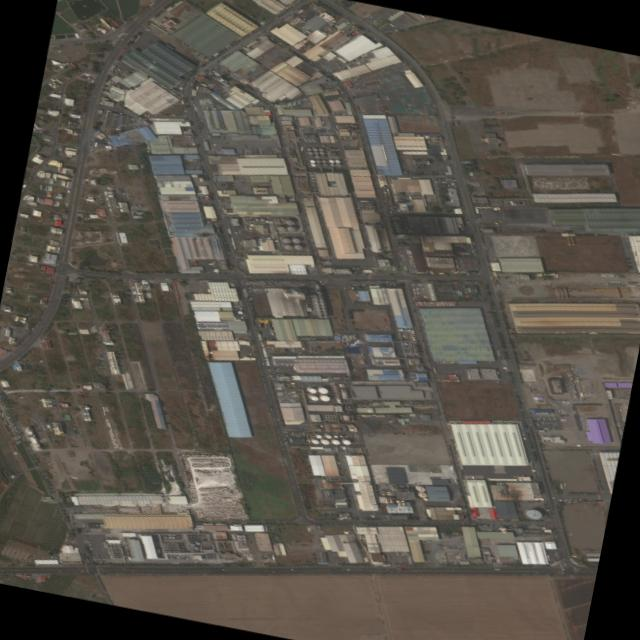large-vehicle: (334, 63, 340, 69), (369, 14, 375, 18), (208, 263, 214, 265), (261, 281, 265, 284), (267, 281, 271, 284), (243, 276, 252, 277), (297, 427, 305, 428), (276, 370, 284, 371), (246, 283, 250, 285), (395, 569, 402, 570), (247, 282, 253, 283), (493, 569, 499, 570), (343, 287, 345, 289)
storage-tank: (525, 508, 542, 521), (414, 485, 425, 493), (317, 387, 327, 395), (319, 395, 329, 402), (417, 491, 427, 498), (293, 244, 302, 251), (286, 226, 295, 233), (283, 244, 292, 250), (291, 238, 300, 244), (276, 226, 285, 232), (284, 220, 293, 226), (282, 238, 290, 244), (320, 439, 328, 445), (331, 440, 339, 446), (342, 440, 350, 446), (308, 388, 316, 394), (310, 396, 318, 401), (334, 163, 341, 168), (311, 440, 318, 445), (385, 491, 392, 496), (319, 301, 325, 306), (313, 301, 319, 305), (322, 315, 328, 319), (320, 308, 326, 312), (316, 291, 322, 295), (315, 163, 321, 167), (314, 160, 320, 164), (321, 163, 327, 167), (320, 160, 326, 164), (328, 163, 334, 167), (314, 305, 320, 309), (315, 308, 321, 312), (316, 311, 322, 315), (194, 541, 200, 545), (315, 435, 321, 439), (325, 435, 331, 439), (383, 497, 389, 501), (383, 500, 389, 504), (380, 490, 386, 494), (422, 497, 428, 501), (259, 218, 264, 222), (313, 298, 318, 302), (312, 295, 317, 299), (320, 305, 325, 309), (318, 298, 323, 302), (317, 295, 322, 299), (402, 342, 407, 346), (312, 148, 317, 152), (318, 148, 323, 152), (306, 148, 311, 152), (320, 155, 325, 159), (310, 163, 315, 167), (309, 160, 314, 164), (314, 155, 319, 159), (328, 160, 333, 164), (334, 160, 339, 164), (189, 543, 194, 547), (193, 546, 198, 550), (389, 500, 394, 504), (396, 503, 401, 507), (395, 500, 400, 504), (318, 152, 324, 155), (322, 312, 327, 315), (313, 152, 318, 155), (307, 152, 312, 155), (308, 155, 313, 158), (115, 546, 120, 549), (111, 543, 116, 546), (254, 218, 258, 221), (163, 536, 167, 539), (333, 435, 337, 438), (168, 557, 172, 560), (304, 306, 308, 309), (113, 548, 117, 551), (112, 546, 116, 549), (116, 548, 120, 551), (104, 543, 108, 546), (108, 543, 112, 546), (115, 543, 119, 546), (272, 218, 275, 221), (383, 191, 386, 194), (110, 548, 113, 551), (334, 390, 337, 393), (337, 401, 340, 404), (333, 385, 336, 388), (304, 304, 307, 307), (329, 414, 332, 417), (323, 414, 326, 417), (327, 418, 330, 421), (326, 414, 329, 417), (114, 555, 118, 557), (360, 208, 364, 210), (359, 206, 363, 208), (371, 206, 375, 208), (367, 208, 371, 210), (276, 221, 280, 223), (401, 335, 405, 337), (275, 219, 279, 221), (339, 436, 343, 438), (108, 546, 112, 548), (113, 551, 117, 553), (334, 393, 338, 395), (333, 388, 337, 390), (303, 303, 307, 305), (370, 204, 373, 206), (365, 206, 368, 208), (368, 206, 371, 208), (364, 208, 367, 210), (362, 204, 365, 206), (372, 208, 375, 210), (364, 204, 367, 206), (359, 204, 362, 206), (280, 218, 283, 220), (411, 337, 414, 339), (114, 553, 117, 555), (168, 555, 171, 557), (167, 537, 170, 539), (171, 537, 174, 539), (172, 534, 175, 536), (319, 425, 322, 427), (112, 557, 115, 559), (111, 555, 114, 557), (111, 553, 114, 555), (110, 551, 113, 553), (166, 534, 169, 536), (117, 551, 120, 553), (348, 409, 351, 411), (347, 406, 350, 408), (337, 399, 340, 401), (336, 397, 339, 399), (336, 395, 339, 397), (332, 415, 335, 417), (333, 417, 336, 419), (333, 419, 336, 421), (324, 418, 327, 420), (327, 416, 329, 419), (330, 419, 333, 421), (330, 417, 333, 419), (363, 206, 365, 208), (273, 221, 275, 223), (412, 339, 414, 341), (411, 335, 413, 337), (324, 417, 326, 419), (367, 204, 370, 205), (169, 535, 172, 536)
